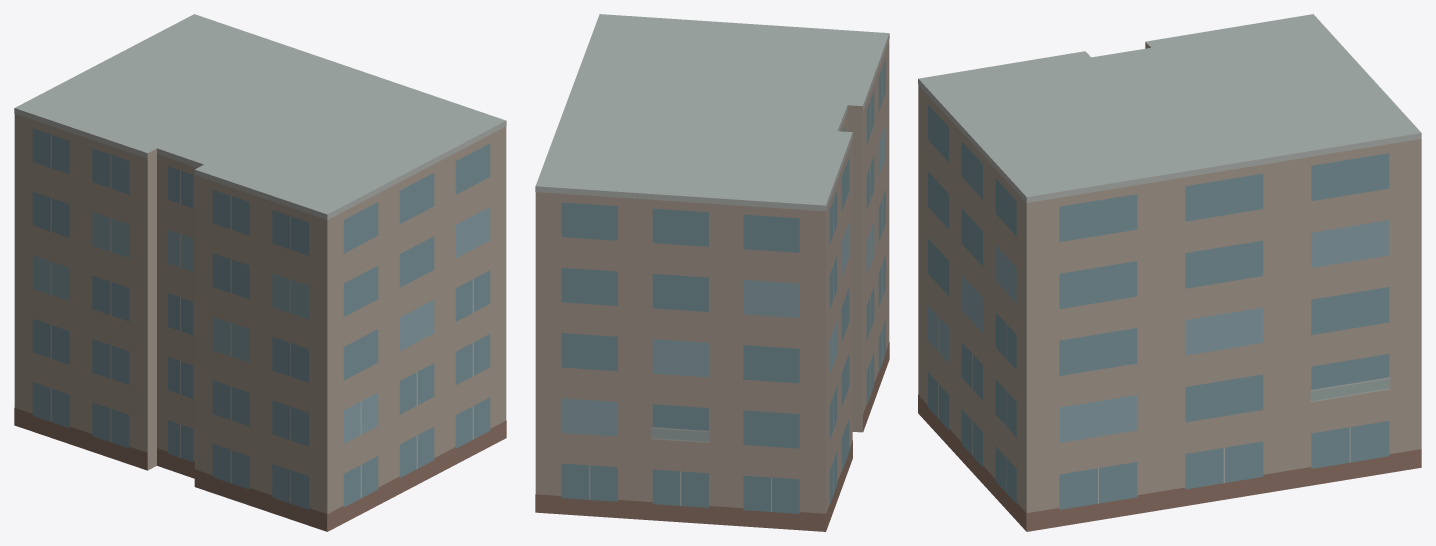
The model's file is survey-upis-32756617.glb.
3 renders of one model, left to right at view 1: azimuth 30°, elevation 25°; view 2: azimuth 150°, elevation 25°; view 3: azimuth 270°, elevation 25°, orthographic. The views are drawn at different scales.
Visible parts, largest first — view 1: survey-upis-32756617.tmp; view 2: survey-upis-32756617.tmp; view 3: survey-upis-32756617.tmp.
Part boxes in pixels (box(x1,y1,x2,y2)): survey-upis-32756617.tmp: box(14, 14, 506, 531); survey-upis-32756617.tmp: box(535, 14, 889, 531); survey-upis-32756617.tmp: box(918, 14, 1421, 531).
Size of the model in its own units: 16.33 by 13.9 by 18.96.
